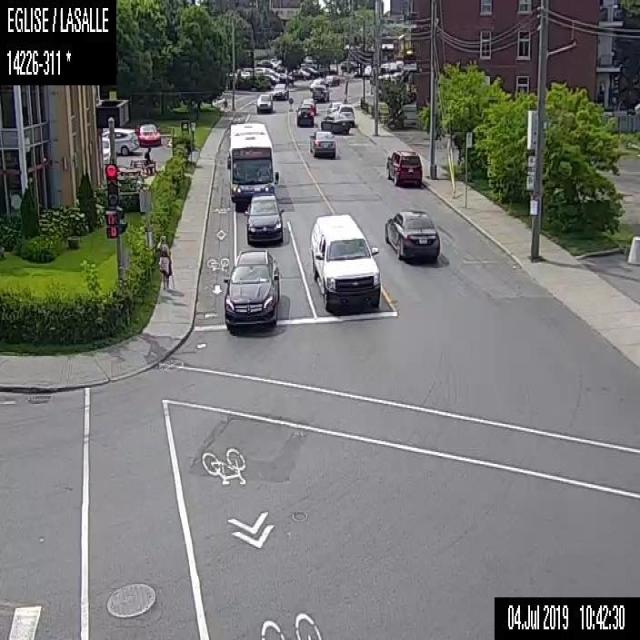bus: (226, 118, 278, 204)
pedestrian: (155, 233, 173, 290), (143, 146, 154, 170)
vehicle: (308, 209, 381, 315), (222, 247, 280, 333), (383, 208, 440, 263), (244, 193, 283, 244), (383, 147, 422, 188), (102, 128, 138, 155), (309, 128, 336, 158), (320, 111, 350, 132), (137, 122, 160, 146), (294, 104, 314, 127), (335, 102, 354, 125), (255, 90, 275, 110), (310, 83, 328, 103), (270, 81, 288, 99), (302, 97, 317, 114), (326, 74, 339, 86)
